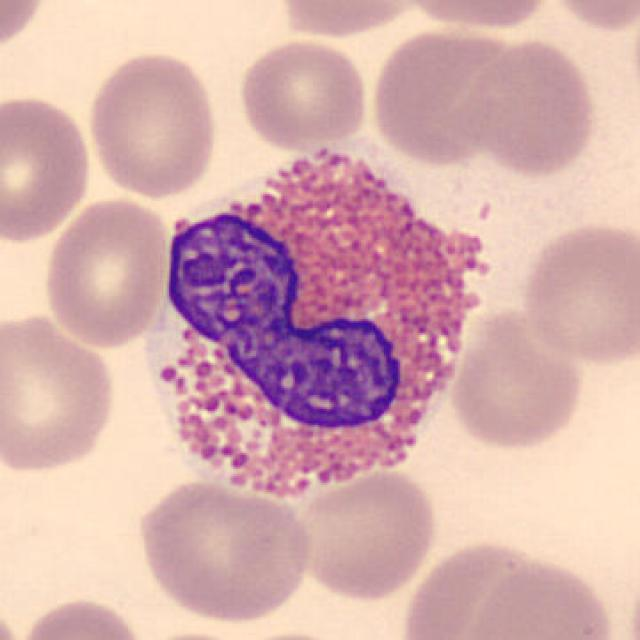Nuclei: (169, 217, 395, 427)
